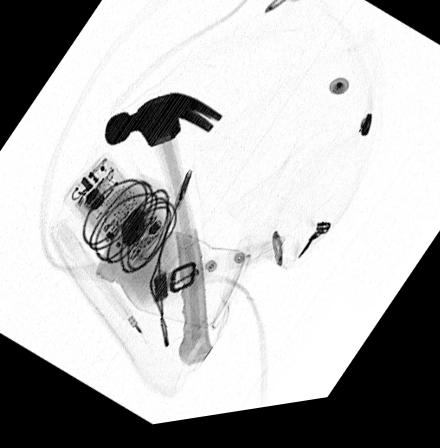Hammer: (100, 97, 222, 373)
